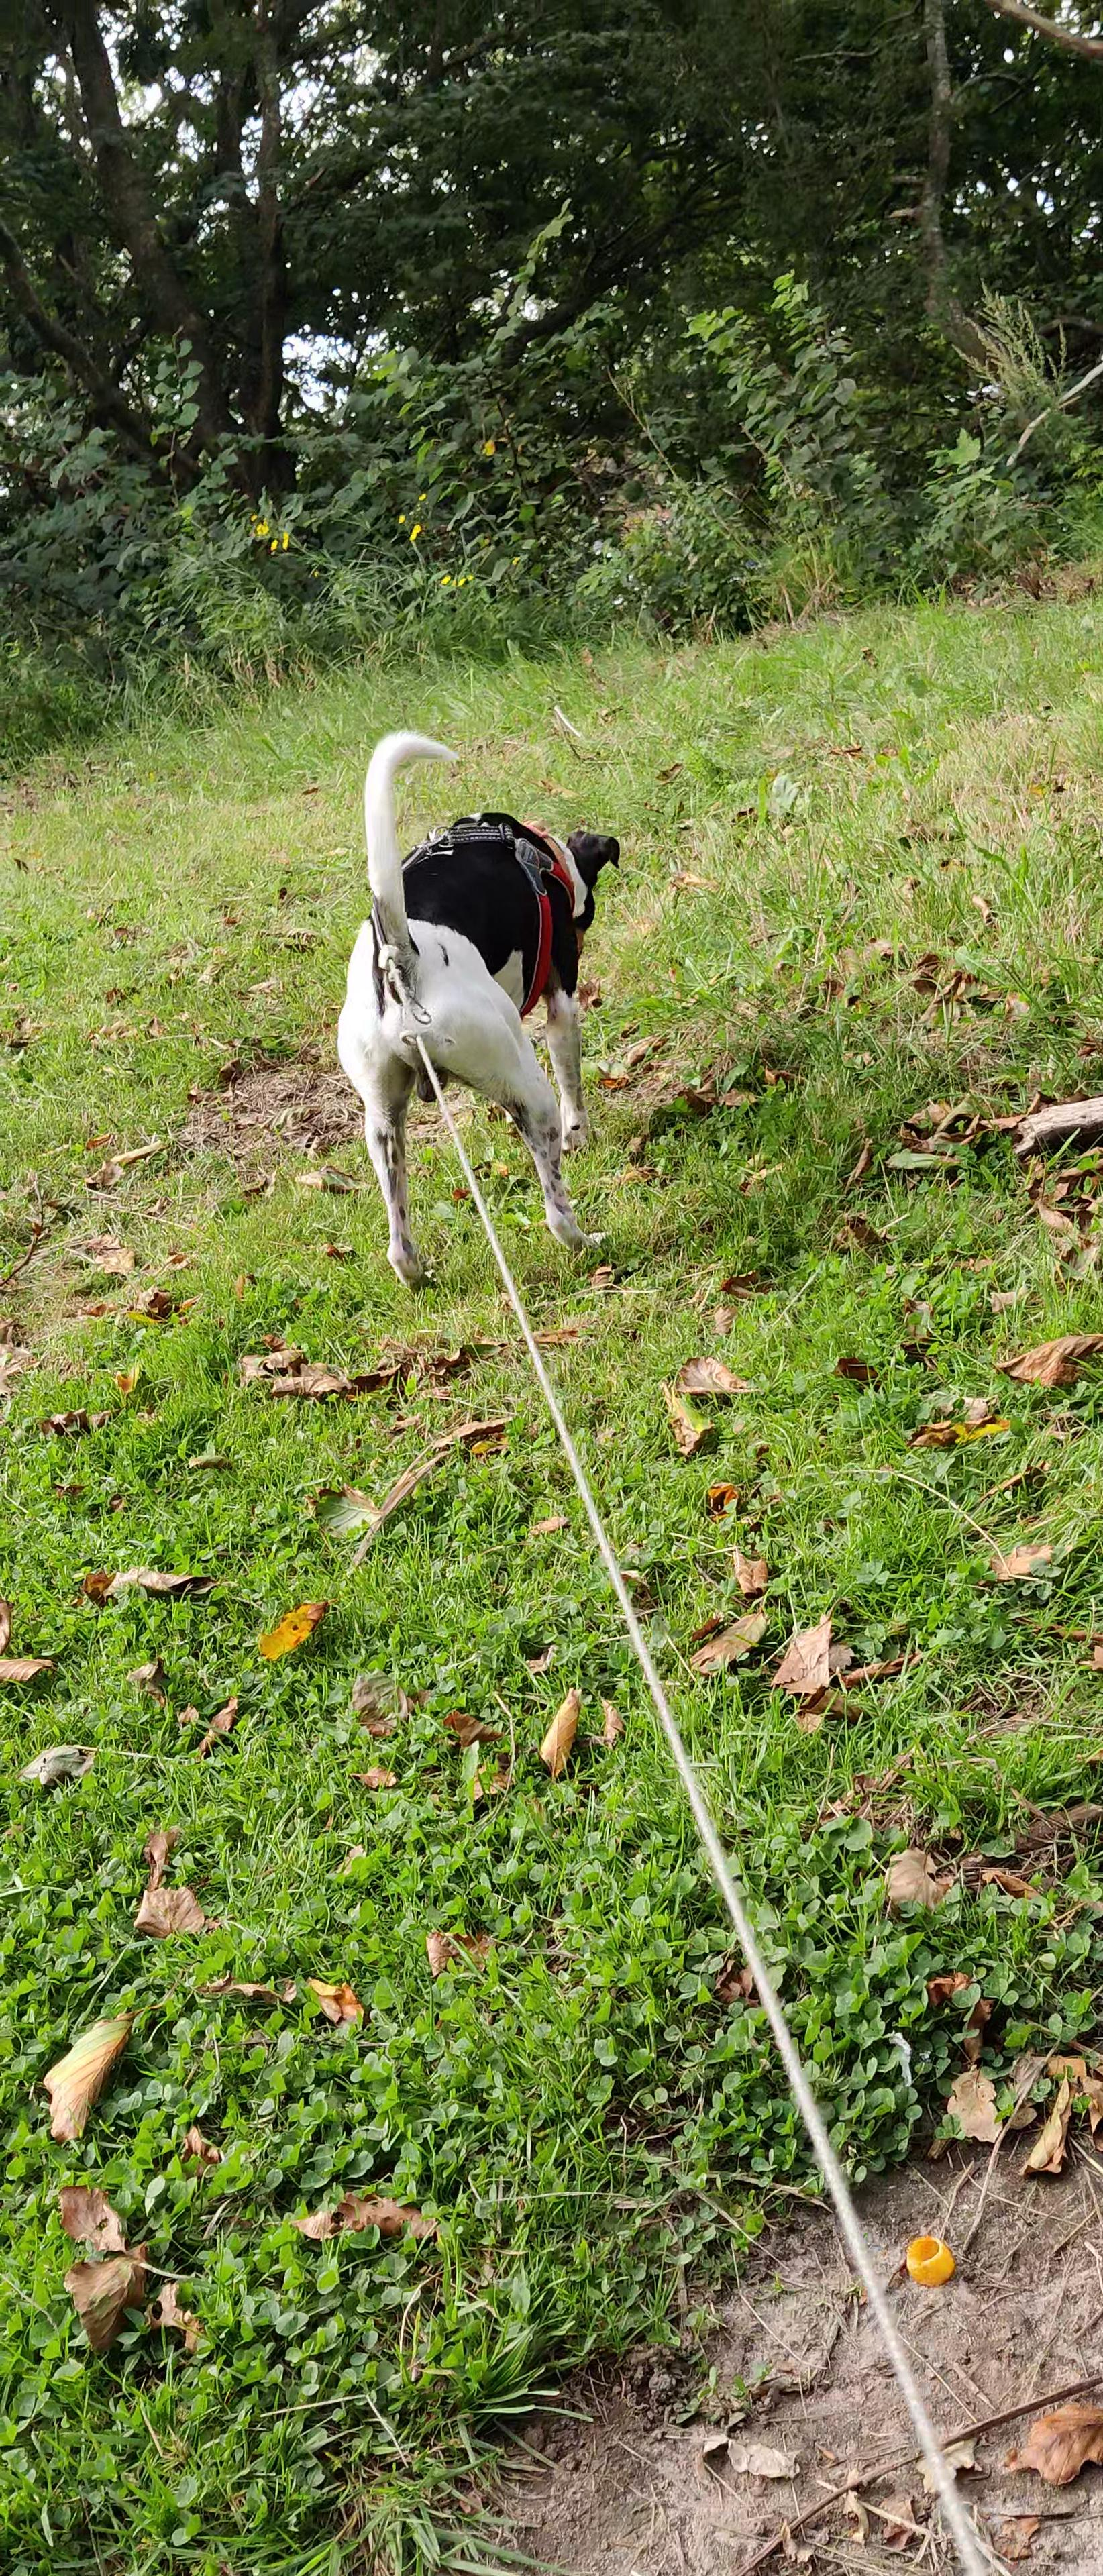Dog: (321, 723, 628, 1293)
